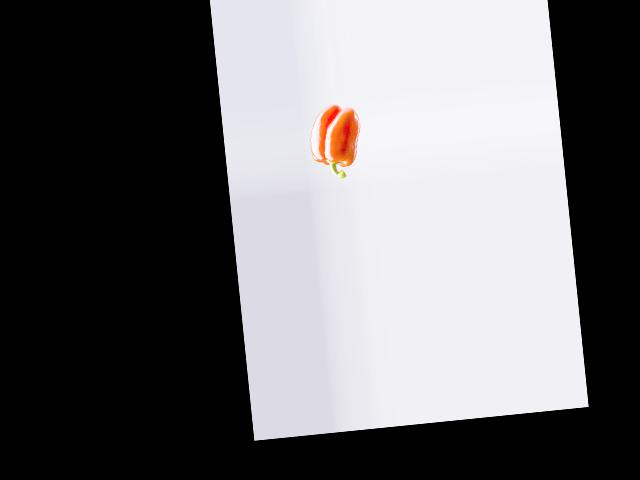bell_pepper: (304, 104, 366, 181)
